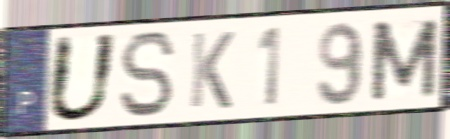1: (256, 24, 283, 109)
9: (315, 19, 366, 107)
K: (187, 30, 237, 112)
M: (367, 15, 441, 103)
S: (117, 29, 179, 121)
U: (43, 31, 122, 126)
